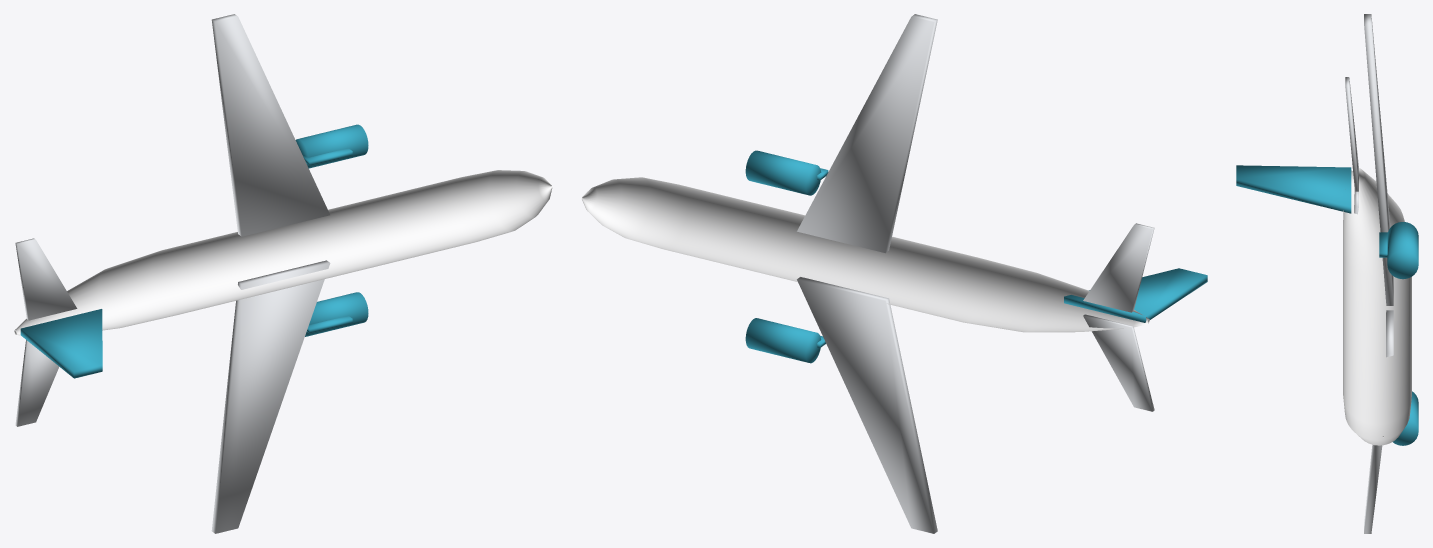
Rendered from plane_arr.glb.
The picture shows the model from 3 angles, left to right: view 1: azimuth 30°, elevation 25°; view 2: azimuth 150°, elevation 25°; view 3: azimuth 270°, elevation 25°; orthographic projection.
Visible parts, largest first — view 1: fuselage, ailes, stabilisateur, reacteurs, derive; view 2: fuselage, ailes, stabilisateur, reacteurs, derive; view 3: fuselage, derive, ailes, reacteurs, stabilisateur.
Part boxes in pixels (<box>): fuselage: <box>14,170,552,335</box>; ailes: <box>211,14,330,533</box>; stabilisateur: <box>15,238,77,426</box>; reacteurs: <box>295,124,368,336</box>; derive: <box>20,309,102,378</box>; fuselage: <box>582,177,1149,332</box>; ailes: <box>797,14,937,533</box>; stabilisateur: <box>1083,223,1154,411</box>; reacteurs: <box>745,150,828,363</box>; derive: <box>1064,268,1207,322</box>; fuselage: <box>1343,168,1411,445</box>; derive: <box>1236,165,1351,213</box>; ailes: <box>1364,14,1393,533</box>; reacteurs: <box>1379,222,1418,445</box>; stabilisateur: <box>1345,77,1358,214</box>.
Bounding box in the file's own units: 38.73 × 34.2 × 11.1.
